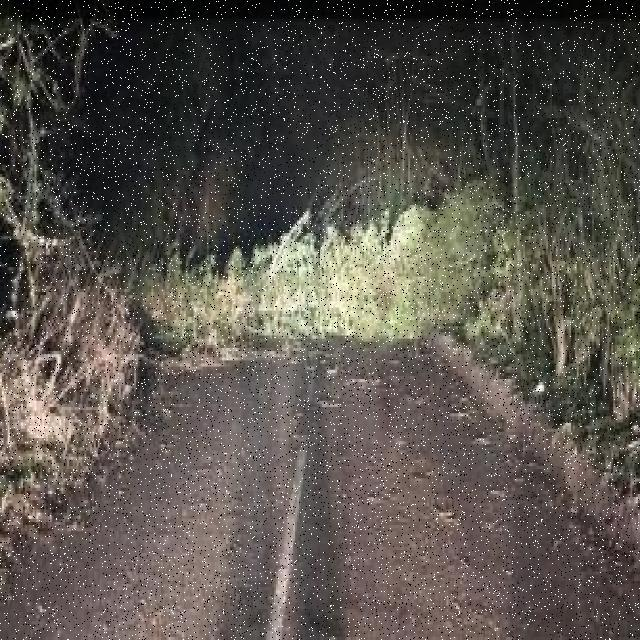fallen_object: (102, 216, 504, 366)
